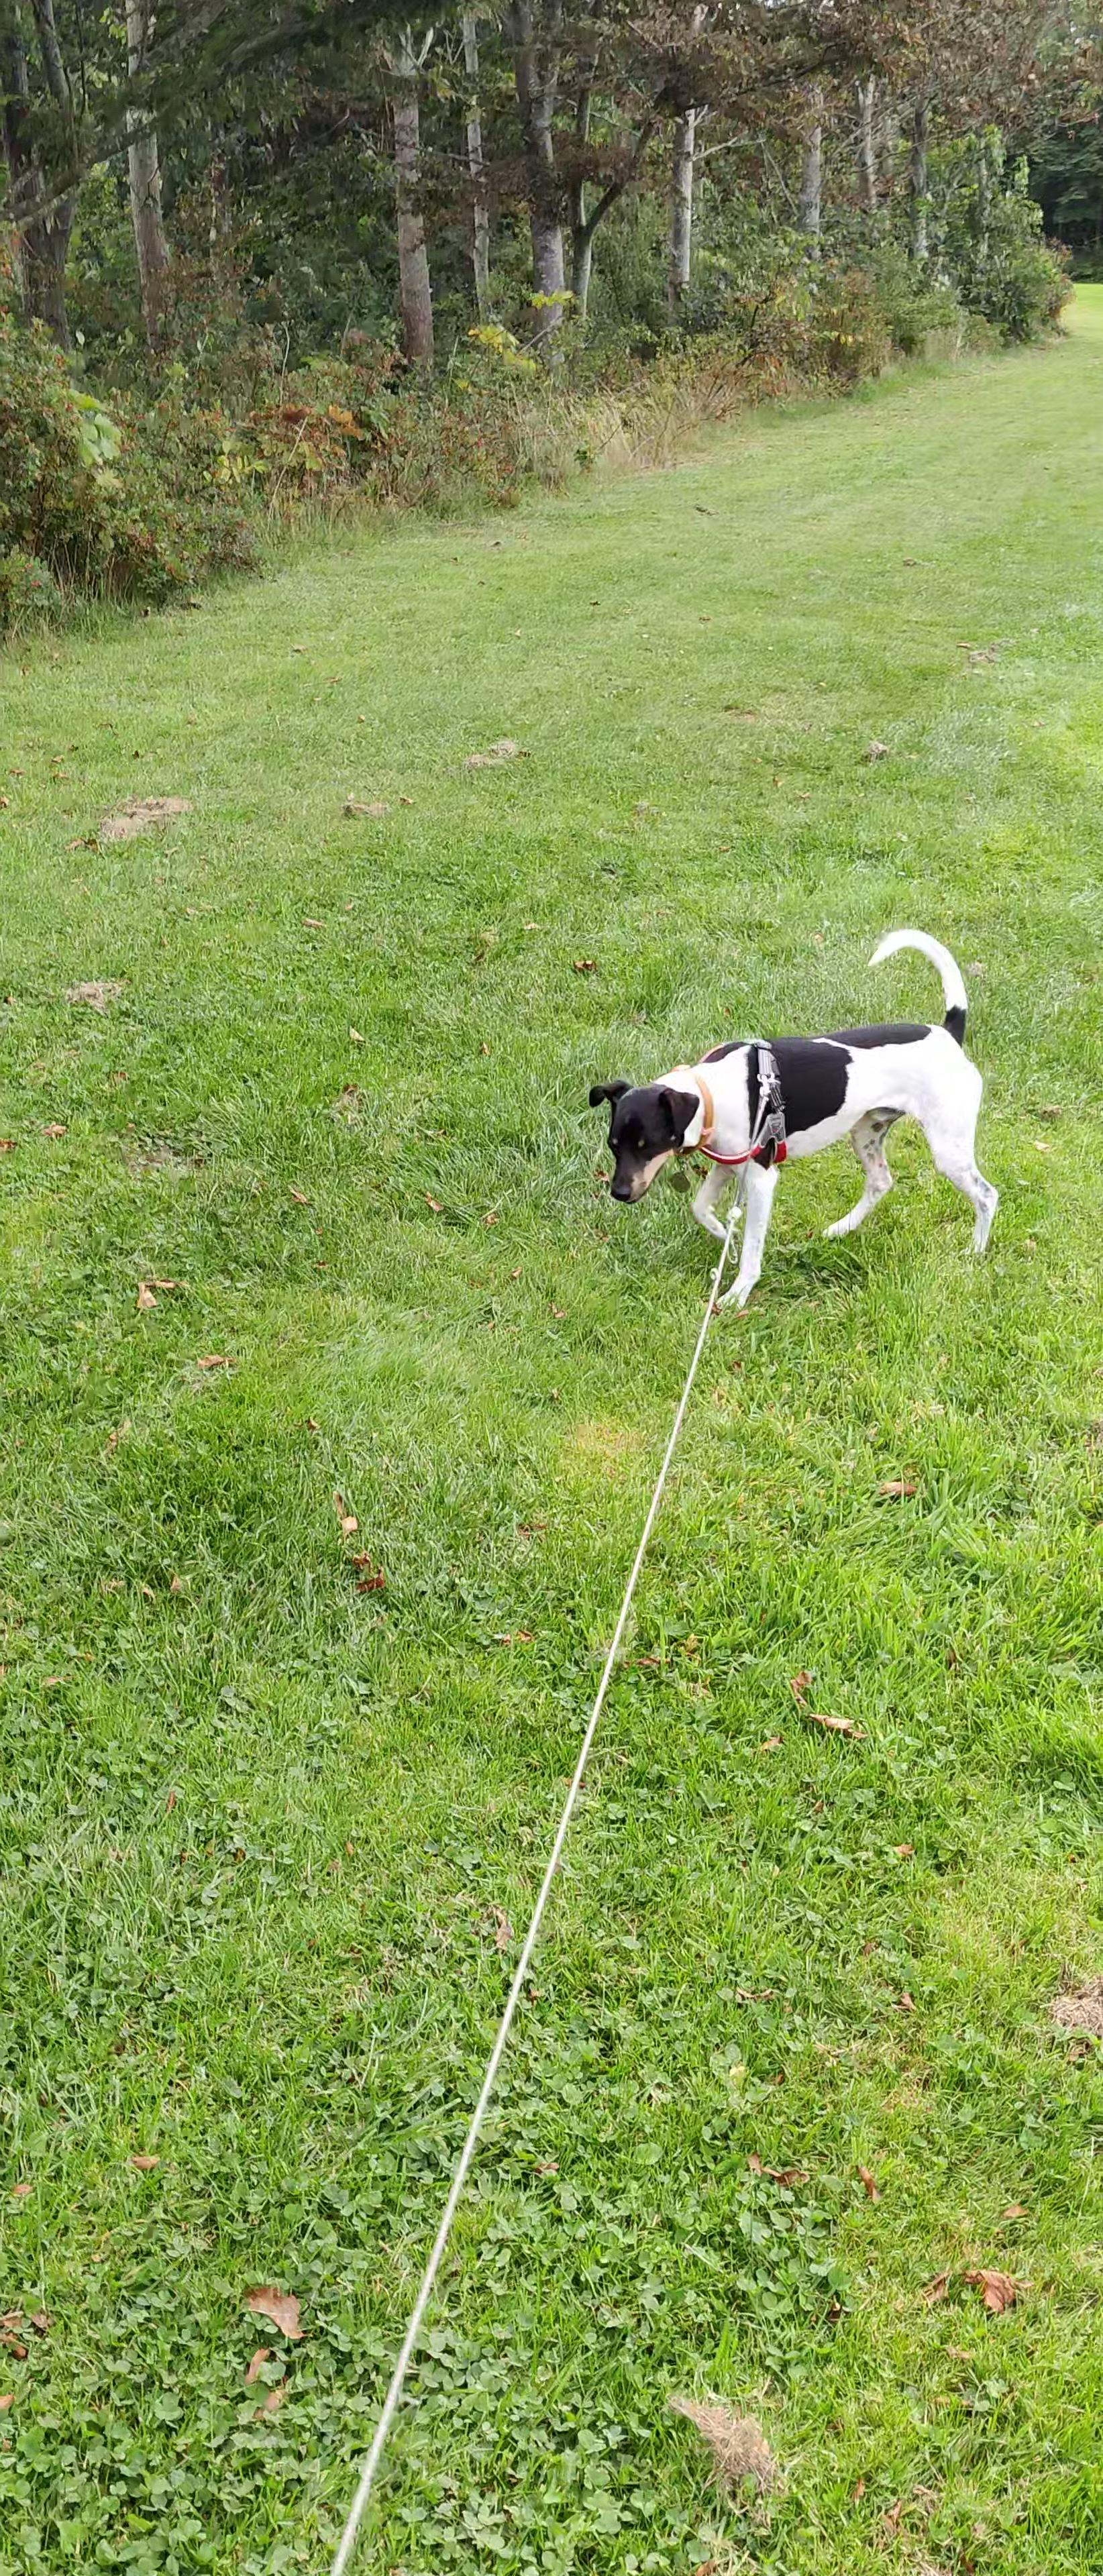Dog: (565, 884, 1034, 1327)
